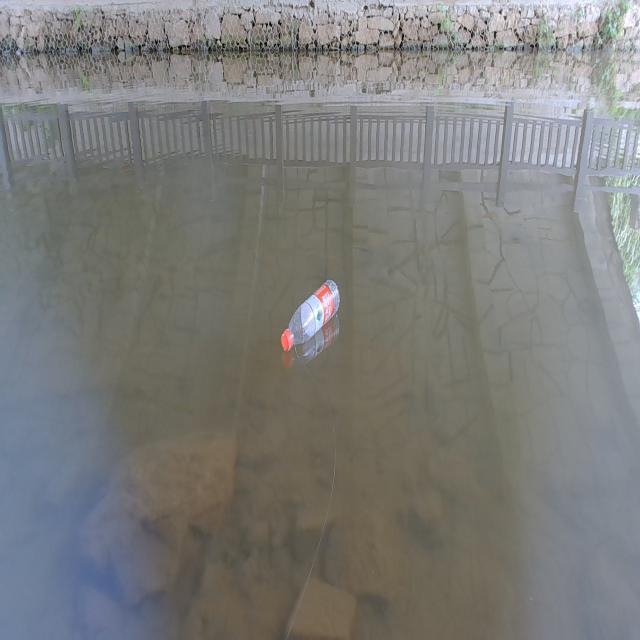Bottle: (280, 278, 340, 351)
